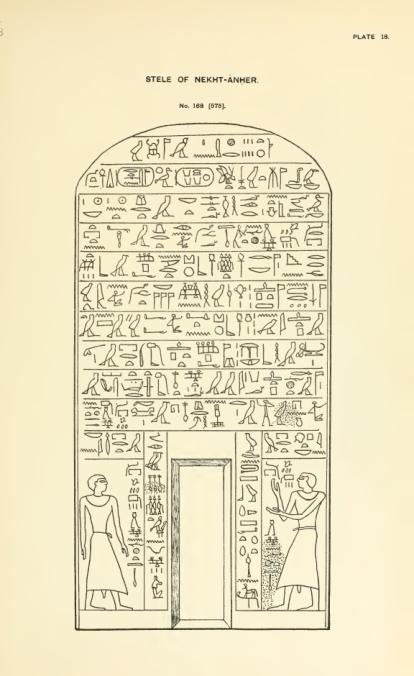circle: (173, 165, 216, 188), (114, 166, 155, 189)
